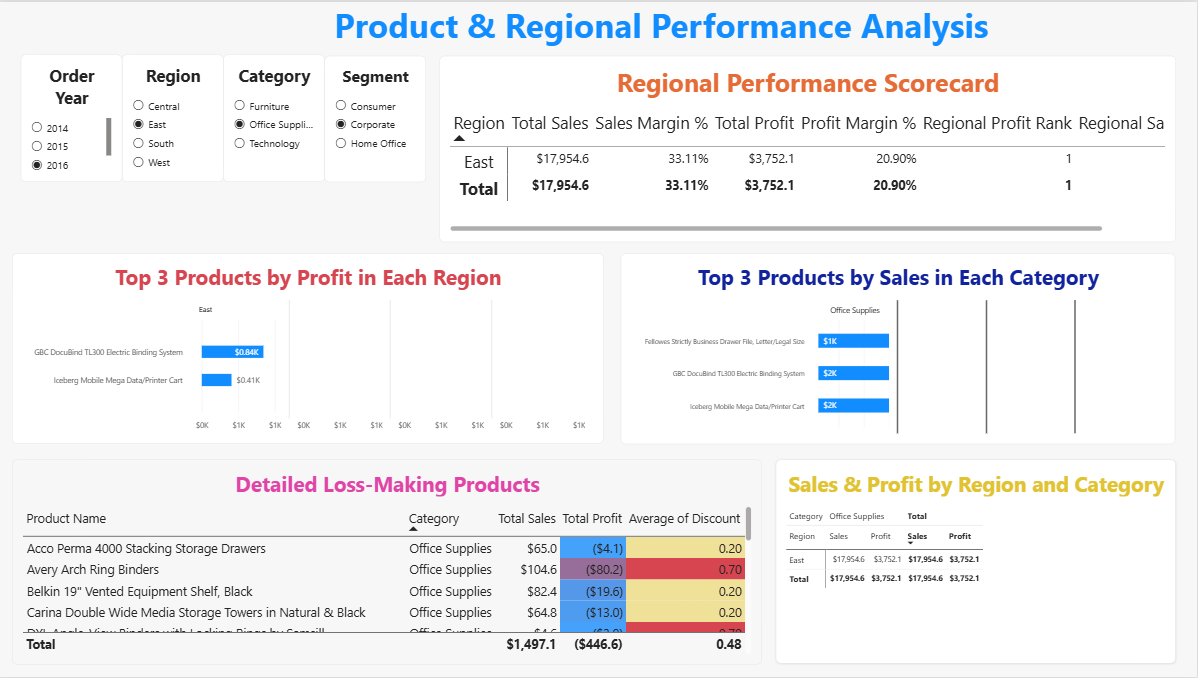

This screenshot's page, from the dashboard's own definition file:
{"tool":"powerbi","page":{"name":"Product & Regiona Analysis   ","canvas":[1920,1080],"ordinal":2},"visuals":[{"type":"textbox","box":[382.8,0,1362.6,119.4],"z":0},{"type":"pivotTable","title":"Regional Performance Scorecard","fields":{"Rows":["sales.Region"],"Values":["sales.Total Sales","sales.Sales Margin %","sales.Total Profit","sales.Profit Margin %","sales.Regional Profit Rank","sales.Regional Sales Rank"]},"box":[708,86,1178,298],"z":1000},{"type":"clusteredBarChart","title":"Top 3 Products by Profit in Each Region","fields":{"Category":["sales.Product Name"],"Rows":["sales.Region"],"Y":["sales.Total Profit"]},"box":[24,402,946.2,305],"z":2000},{"type":"clusteredBarChart","title":"Top 3 Products by Sales in Each Category","fields":{"Category":["sales.Product Name"],"Rows":["sales.Category"],"Y":["sales.Total Sales"]},"box":[997.1,402.9,887.1,305.7],"z":3000},{"type":"tableEx","title":"Detailed Loss-Making Products","fields":{"Values":["sales.Product Name","sales.Category","sales.Total Sales","sales.Total Profit","Avg(sales.Discount)"]},"box":[24,732,1200,328],"z":4000},{"type":"pivotTable","title":"Sales & Profit by Region and Category","fields":{"Columns":["sales.Category"],"Rows":["sales.Region"],"Values":["sales.Total Sales","sales.Total Profit"]},"box":[1246,732,640,326],"z":5000},{"type":"listSlicer","title":"Order Year","fields":{"Values":["sales.Order Year"]},"box":[38,84,162,204],"z":6000},{"type":"listSlicer","title":"Region","fields":{"Values":["sales.Region"]},"box":[200,84,162,204],"z":7000},{"type":"listSlicer","title":"Category","fields":{"Values":["sales.Category"]},"box":[362,84,162,204],"z":8000},{"type":"listSlicer","title":"Segment","fields":{"Values":["sales.Segment"]},"box":[524,86,162,202],"z":9000}]}

Visuals, with their boxes in screenshot pixels (x1, y1, x2, y2), scaled from the page's 1920x1080 canvas onto the 1198x678 screenshot:
textbox: x1=239 y1=0 x2=1089 y2=75
"Regional Performance Scorecard" pivotTable: x1=442 y1=54 x2=1177 y2=241
"Top 3 Products by Profit in Each Region" clusteredBarChart: x1=15 y1=252 x2=605 y2=444
"Top 3 Products by Sales in Each Category" clusteredBarChart: x1=622 y1=253 x2=1176 y2=445
"Detailed Loss-Making Products" tableEx: x1=15 y1=460 x2=764 y2=665
"Sales & Profit by Region and Category" pivotTable: x1=777 y1=460 x2=1177 y2=664
"Order Year" listSlicer: x1=24 y1=53 x2=125 y2=181
"Region" listSlicer: x1=125 y1=53 x2=226 y2=181
"Category" listSlicer: x1=226 y1=53 x2=327 y2=181
"Segment" listSlicer: x1=327 y1=54 x2=428 y2=181
